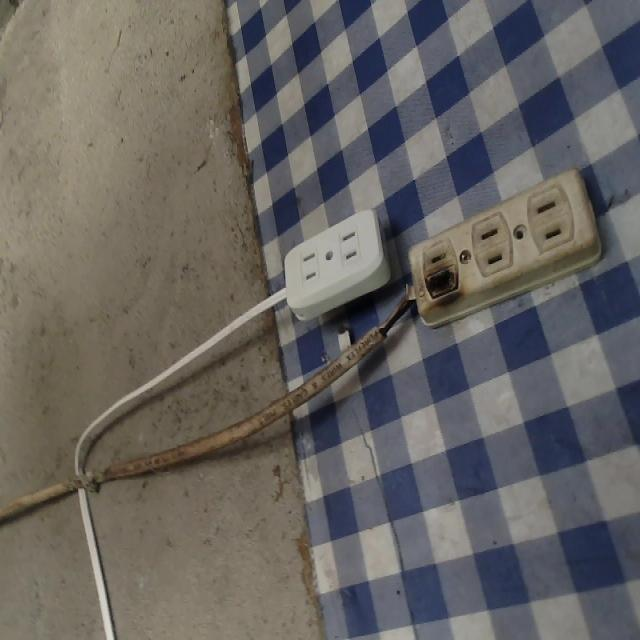-: (417, 260, 466, 312)
